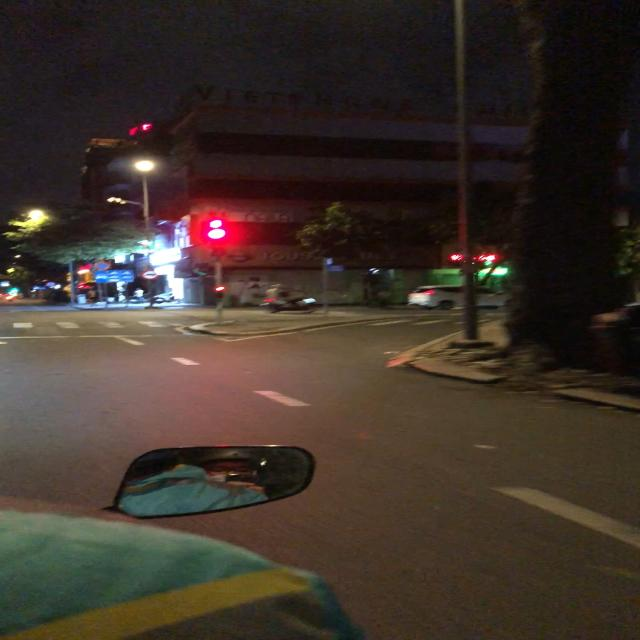Bien bao cam do xe: (91, 260, 111, 270)
Bien bao cam xe so-mi ro-mooc: (140, 269, 162, 281)
